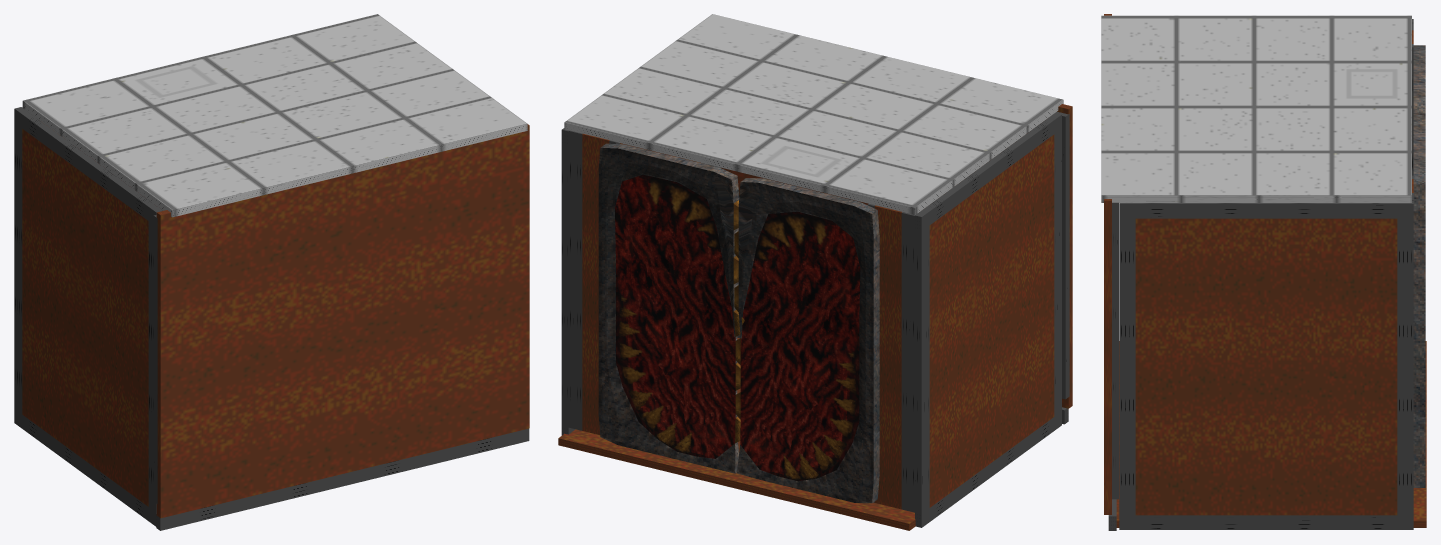
Rendered from ElavatorCart02.fbx.
The picture shows the model from 3 angles, left to right: view 1: azimuth 30°, elevation 25°; view 2: azimuth 150°, elevation 25°; view 3: azimuth 270°, elevation 25°; orthographic projection. The views are drawn at different scales.
Visible parts, largest first — view 1: BackWall_1, Cube__1_, RightWall__5_, RightWall__12_, RightWall__8_, RightWall__7_, RightWall__9_, RightWall__6_, RightWall__14_; view 2: Cube__1_, EvilDoor, ElevatorDoor.001, RightWall__5_, RightDoor__1_, Floor, RightDoor__2_, RightDoor__3_, RightWall__7_, RightDoor__2__1, RightWall__8_, RightWall__14_ (+4 smaller); view 3: RightWall_1, Cube__1_, RightWall__3_, RightWall__4_, ElevatorDoor.001, RightWall__1_, RightWall__2_, BackWall_1, RightWall__13_, Floor, EvilDoor.
Part boxes in pixels (x1,y1,x2,y2): BackWall_1: (156, 124, 529, 518); Cube__1_: (22, 14, 527, 217); RightWall__5_: (22, 129, 148, 506); RightWall__12_: (156, 428, 529, 530); RightWall__8_: (14, 107, 162, 224); RightWall__7_: (14, 123, 22, 413); RightWall__9_: (14, 409, 156, 526); RightWall__6_: (148, 221, 156, 512); RightWall__14_: (153, 215, 157, 503); Cube__1_: (564, 14, 1063, 214); EvilDoor: (734, 178, 879, 503); ElevatorDoor.001: (598, 143, 744, 473); RightWall__5_: (929, 134, 1054, 507); RightDoor__1_: (874, 205, 901, 509); Floor: (558, 338, 915, 530); RightDoor__2_: (582, 133, 609, 434); RightDoor__3_: (568, 130, 582, 430); RightWall__7_: (915, 226, 929, 513); RightDoor__2__1: (901, 212, 914, 512); RightWall__8_: (915, 113, 1061, 231); RightWall__14_: (1055, 111, 1069, 399); RightWall_1: (1135, 218, 1397, 515); Cube__1_: (1101, 15, 1411, 202); RightWall__3_: (1119, 218, 1135, 515); RightWall__4_: (1397, 218, 1413, 515); ElevatorDoor.001: (1413, 117, 1425, 487); RightWall__1_: (1119, 200, 1413, 218); RightWall__2_: (1119, 515, 1413, 529); BackWall_1: (1104, 14, 1111, 514); RightWall__13_: (1112, 202, 1118, 499); Floor: (1116, 341, 1426, 527); EvilDoor: (1413, 45, 1425, 117).
Bounding box in the file's own units: 271 × 225 × 199.
Materials: 5 (5 with a texture image).
